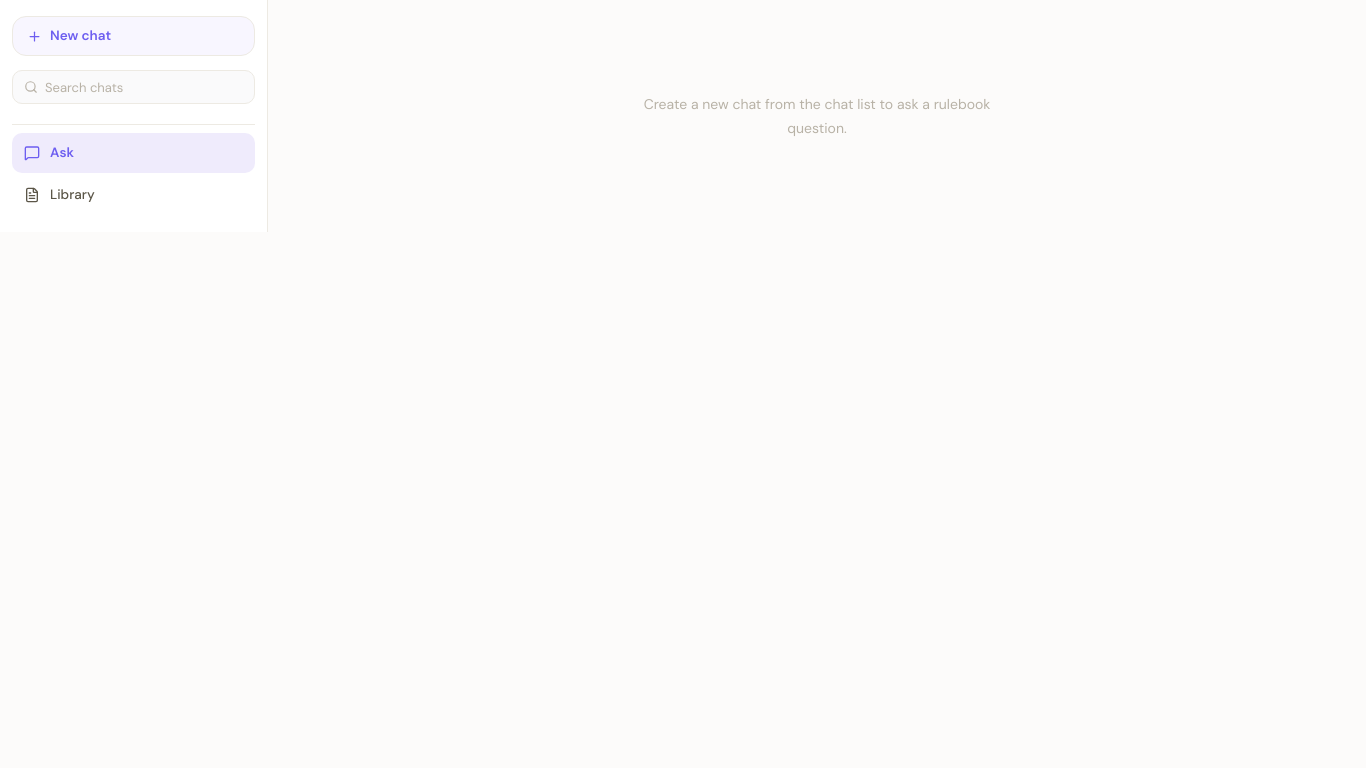
Test case: ChatPage › returns to the clean state after deleting the final chat
Click the button with test id "ask-new-chat-btn". click: coordinates (134, 36)
box: [12,16,255,56]
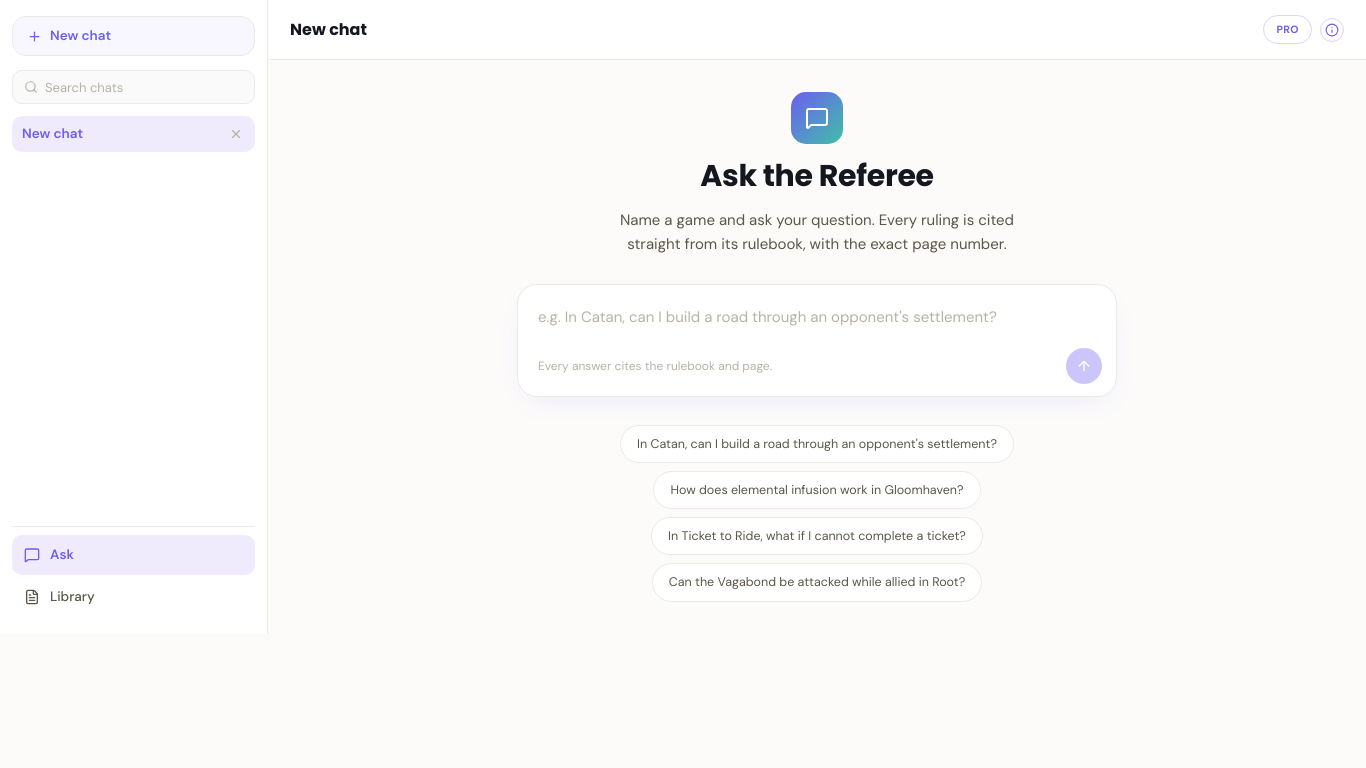
Click the button named "Delete New chat". click: coordinates (236, 134)
box: [223,121,249,147]
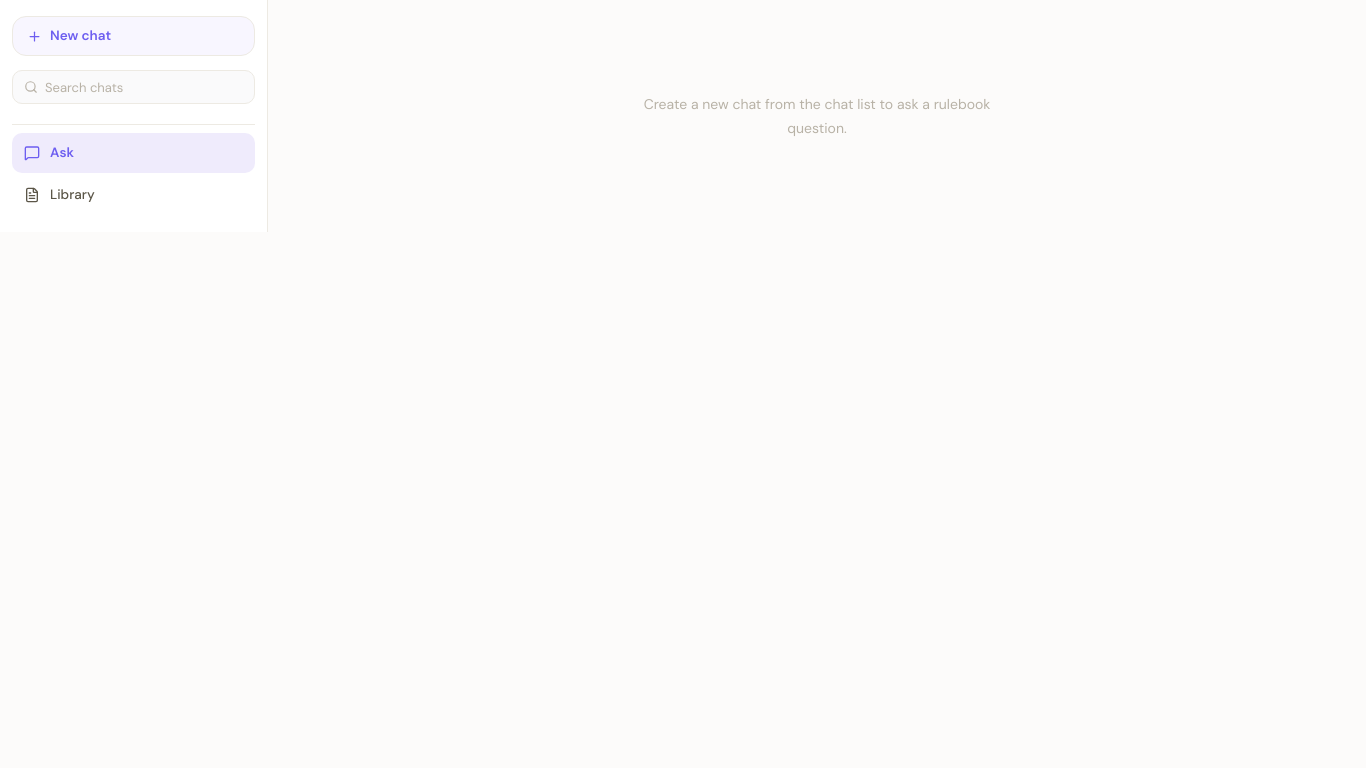
Expected: the field labelled "Ask a rules question" is not shown
Expected: the heading "Ask the Referee" is gone
